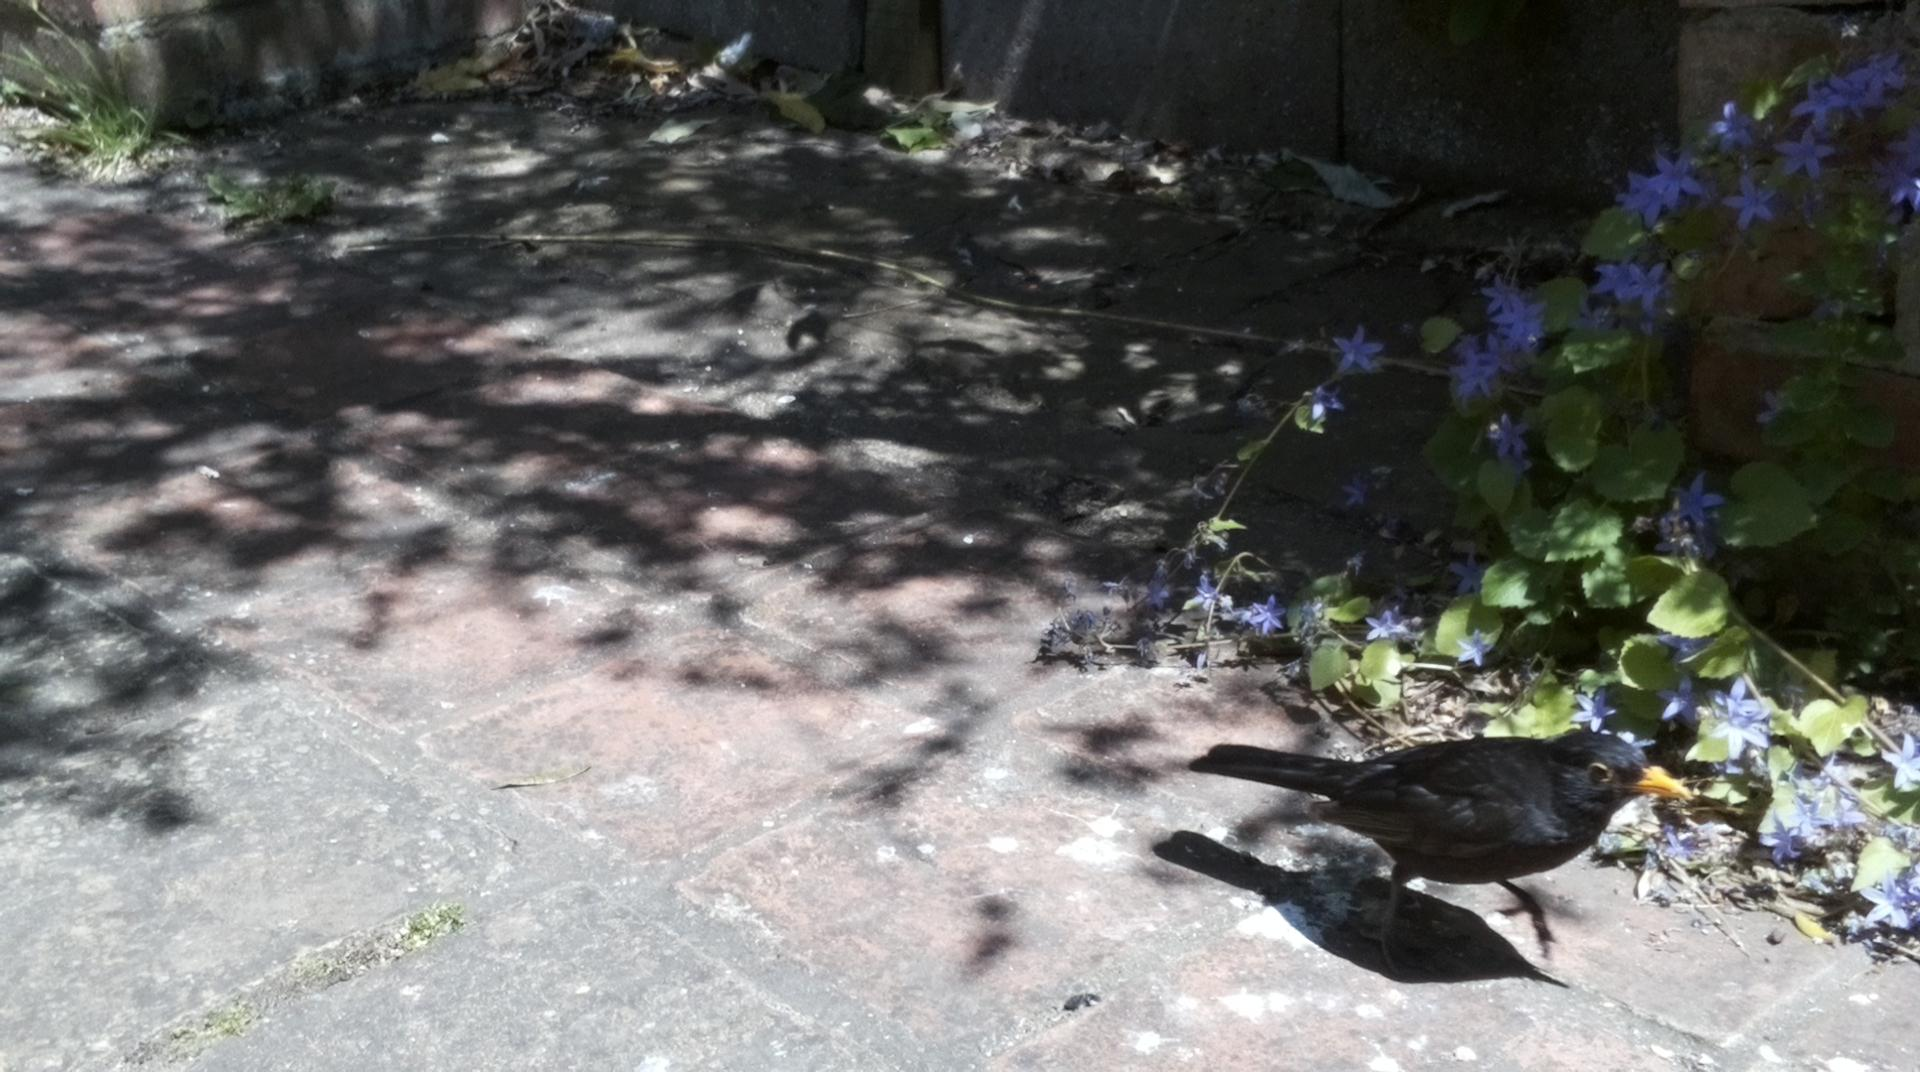blackbird: (1185, 730, 1692, 978)
